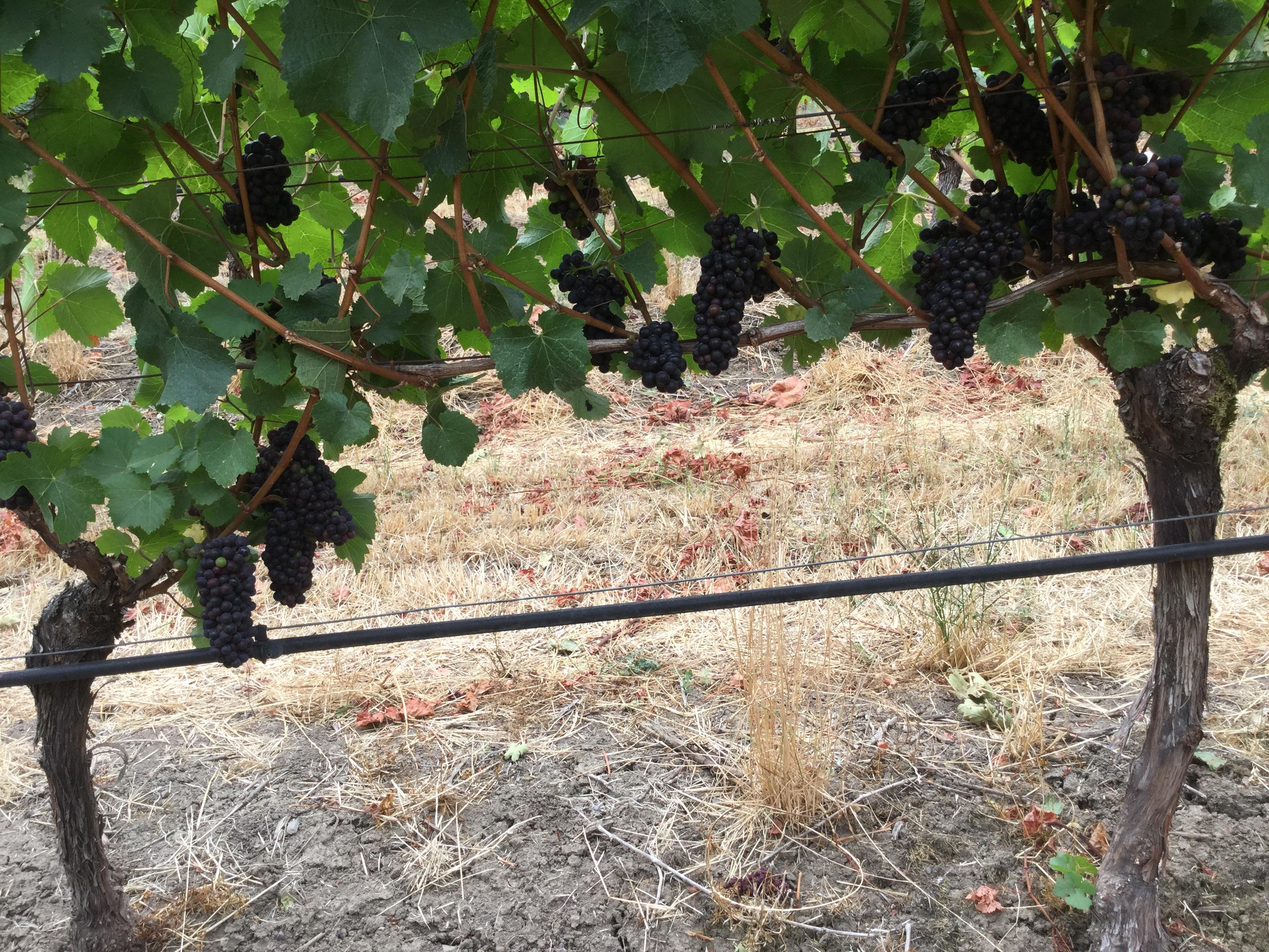leaf: (280, 0, 476, 139), (565, 0, 760, 91), (597, 53, 733, 164), (125, 286, 235, 413), (0, 441, 104, 541), (125, 179, 224, 273), (0, 0, 111, 83), (30, 163, 118, 262), (30, 70, 122, 164), (490, 312, 590, 396), (1178, 69, 1265, 150), (44, 262, 124, 345), (97, 44, 180, 123), (241, 70, 313, 159), (121, 229, 203, 301), (792, 0, 893, 58), (805, 269, 881, 343), (75, 127, 147, 203), (864, 195, 923, 284), (977, 294, 1048, 365), (594, 97, 663, 169), (352, 286, 434, 345), (333, 466, 376, 571), (101, 472, 174, 532), (196, 415, 256, 487), (780, 236, 848, 298), (421, 100, 468, 178), (1104, 312, 1165, 371), (80, 426, 141, 482), (199, 30, 248, 98), (421, 410, 478, 466), (194, 292, 262, 338), (312, 392, 370, 445), (833, 161, 892, 213), (1053, 285, 1110, 337), (380, 248, 427, 304), (294, 346, 346, 394), (612, 240, 661, 290), (128, 433, 181, 479), (0, 54, 41, 112), (1231, 143, 1268, 206), (805, 298, 855, 343), (278, 252, 323, 300), (253, 331, 292, 386), (294, 316, 350, 352), (557, 386, 609, 420), (99, 405, 151, 436), (228, 278, 274, 306), (23, 360, 60, 394), (0, 360, 15, 388), (0, 173, 9, 177), (171, 183, 174, 194), (335, 151, 346, 154), (288, 232, 291, 241), (293, 175, 297, 180), (252, 301, 260, 303), (426, 347, 430, 350), (692, 197, 695, 201), (49, 327, 52, 330), (292, 244, 295, 247), (37, 329, 39, 333), (40, 334, 45, 335), (401, 341, 403, 343), (23, 149, 25, 151), (0, 14, 2, 16), (854, 0, 858, 1), (239, 56, 240, 58), (654, 126, 655, 128), (340, 189, 341, 191), (476, 332, 478, 332), (459, 332, 461, 332), (239, 292, 240, 292), (235, 289, 236, 289), (1051, 348, 1054, 348)
